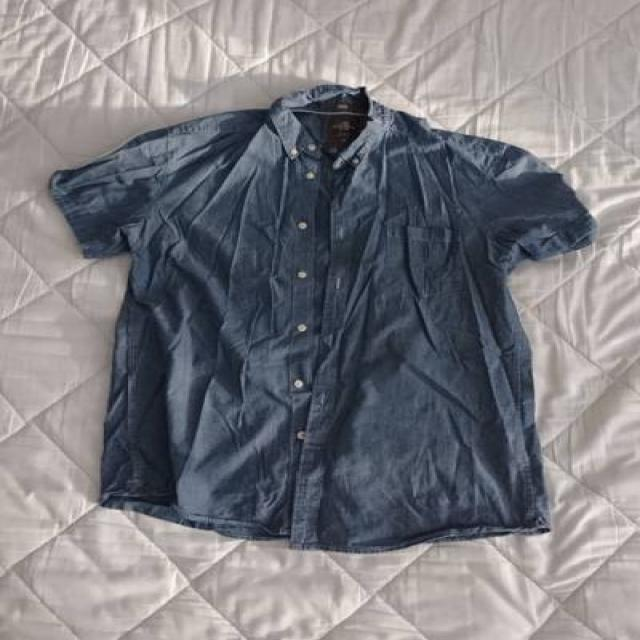Clothes -Biodegradable-: (46, 92, 593, 545)
